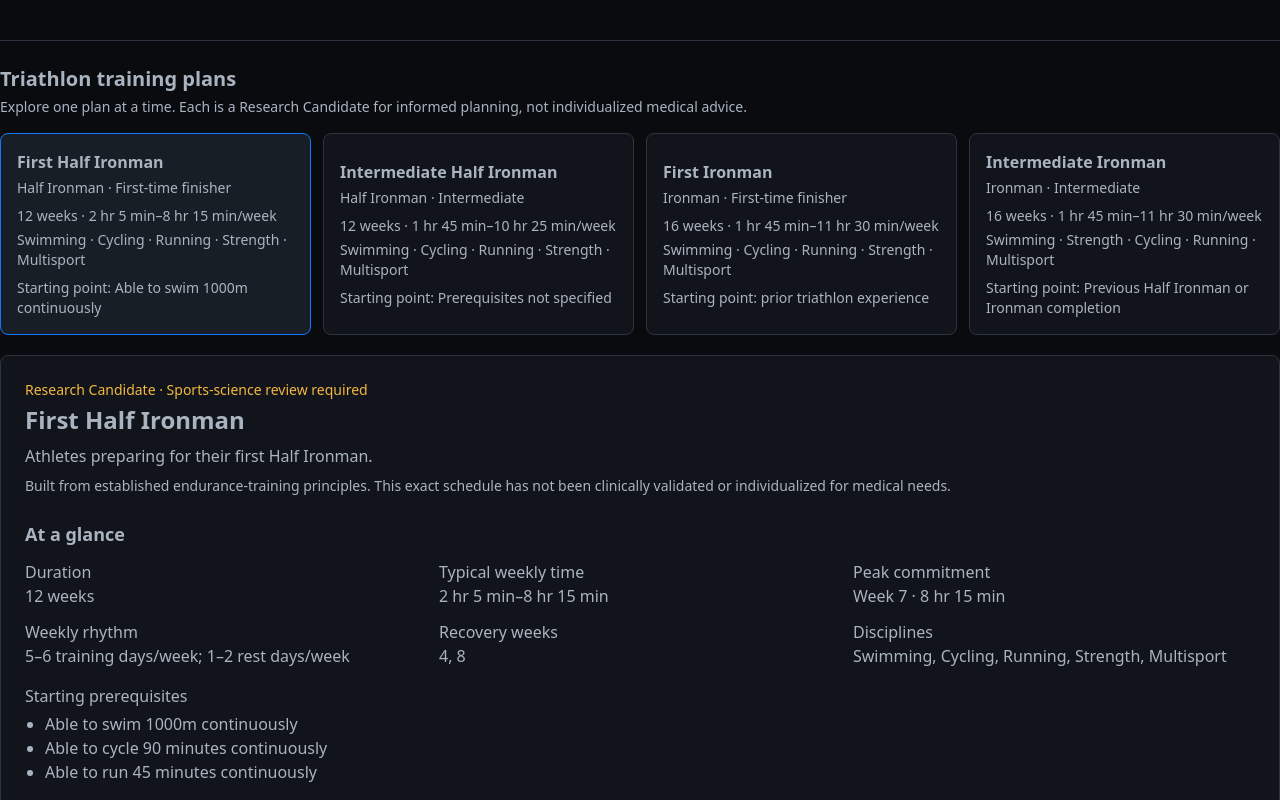
Test case: TriathlonResearchLibrary athlete experience › shows one week initially, all seven days, rest, friendly sessions and exact multi-session order
The image size is (1280, 800).
Step 1. Click the tab "Intermediate Ironman" → (1124, 234), box left=969, top=133, right=1279, bottom=335
(page scrolled)
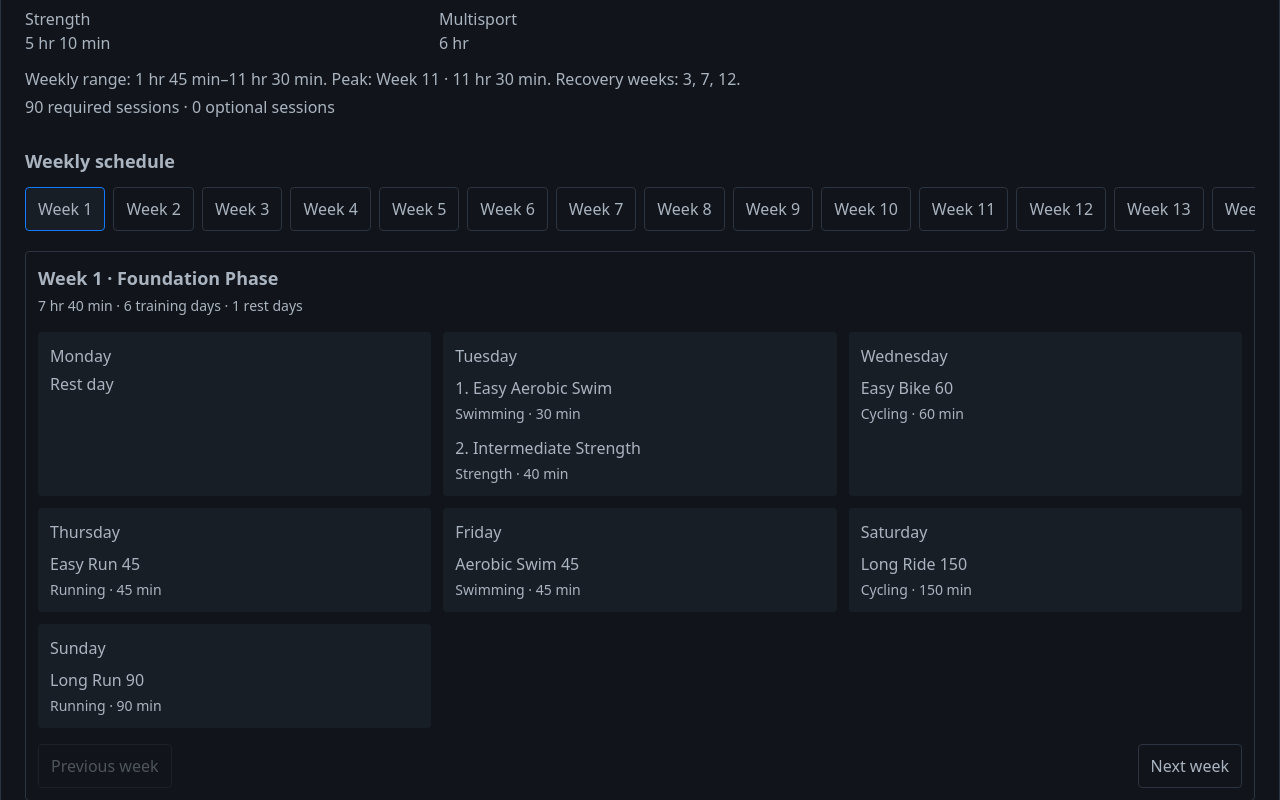
Expected: the list item with aria-label "session 1 of 2" shows "1.", left=455, top=377, right=612, bottom=423
